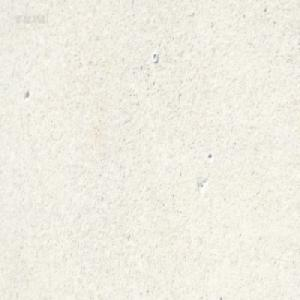Washer: (151, 51, 158, 63)
